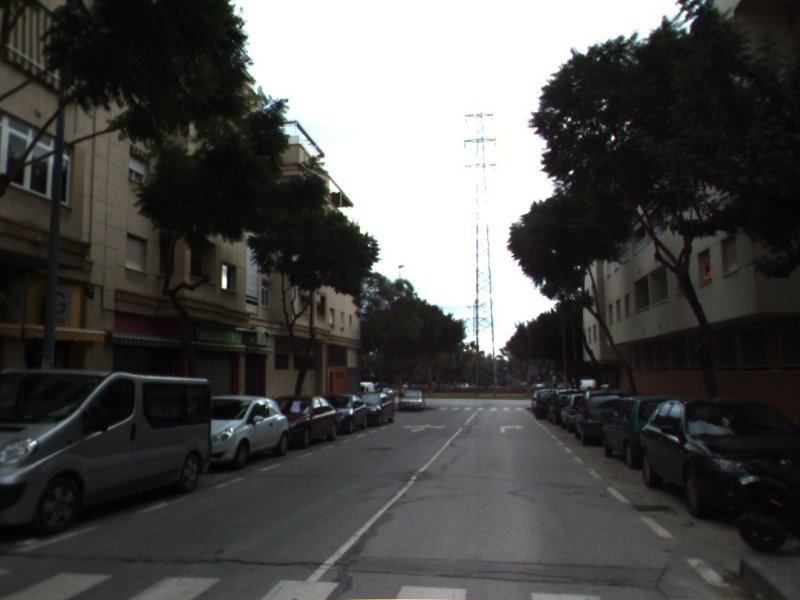RIGHT: (497, 421, 526, 435)
